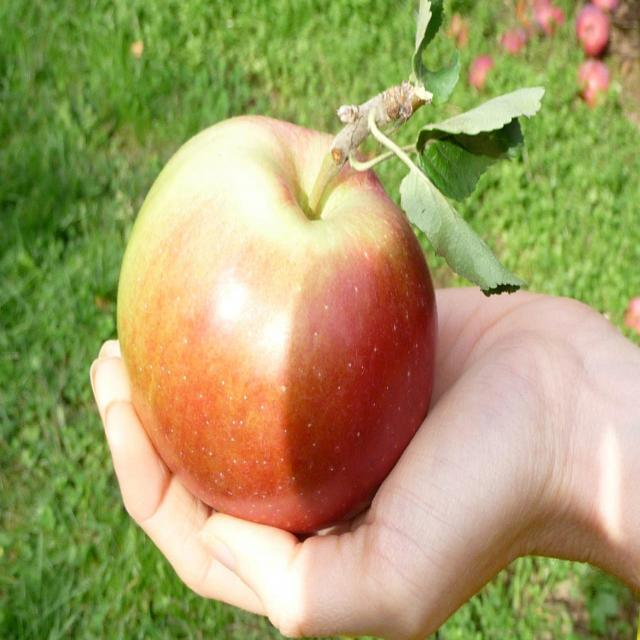Apple: (115, 108, 439, 530)
